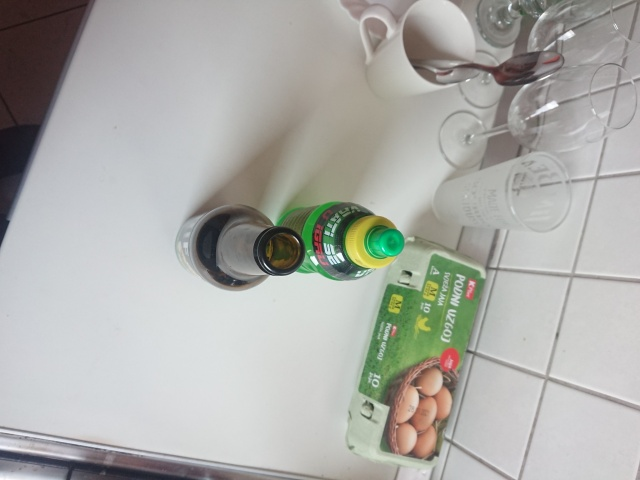Vindi Iso Sport Lemon-Grapefruit 500mL: (268, 198, 407, 284)
